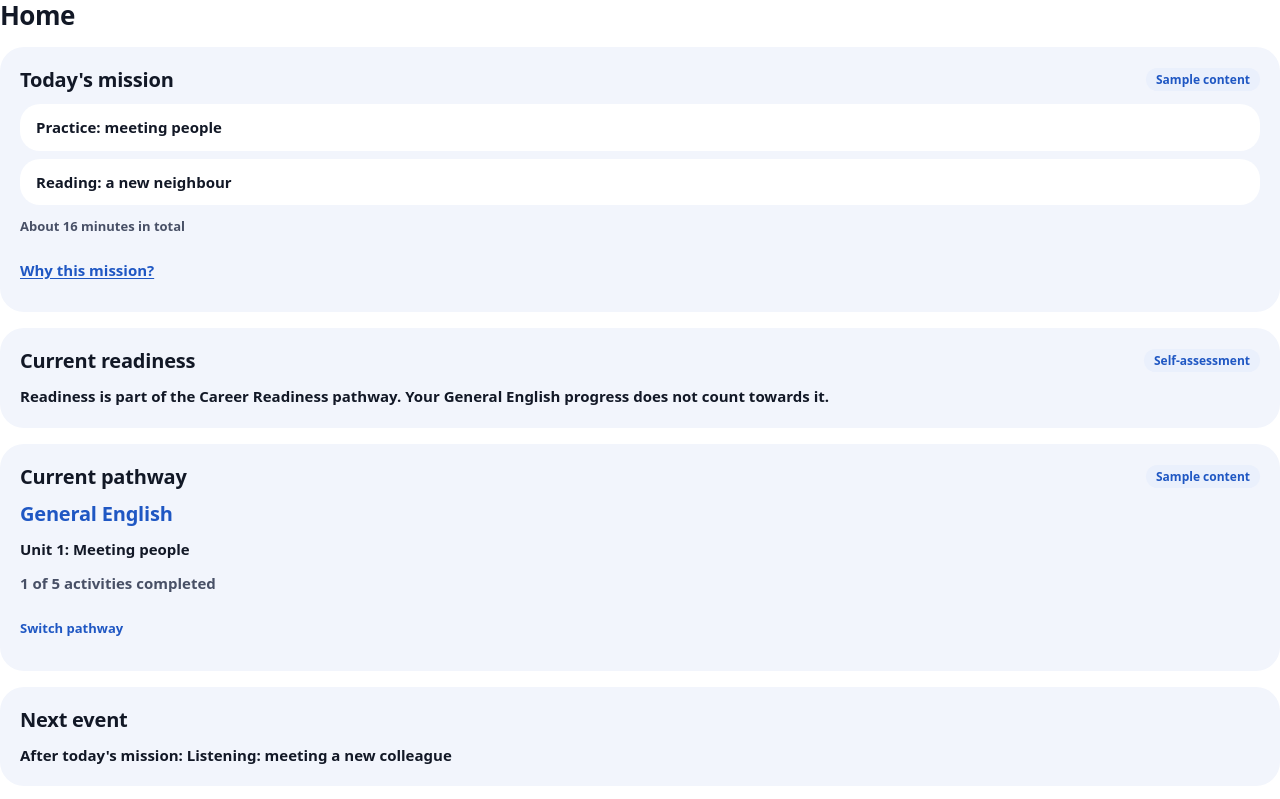
Test: HomePage › switches the pathway only after confirmation and keeps all progress
Expected: the heading "Why this mission?" is shown, x1=20 y1=260 x2=154 y2=280
What coordinates should you click on to do the following:
click the button "Switch pathway"
I would click on:
 (72, 628)
Its box is x1=4 y1=606 x2=139 y2=650.
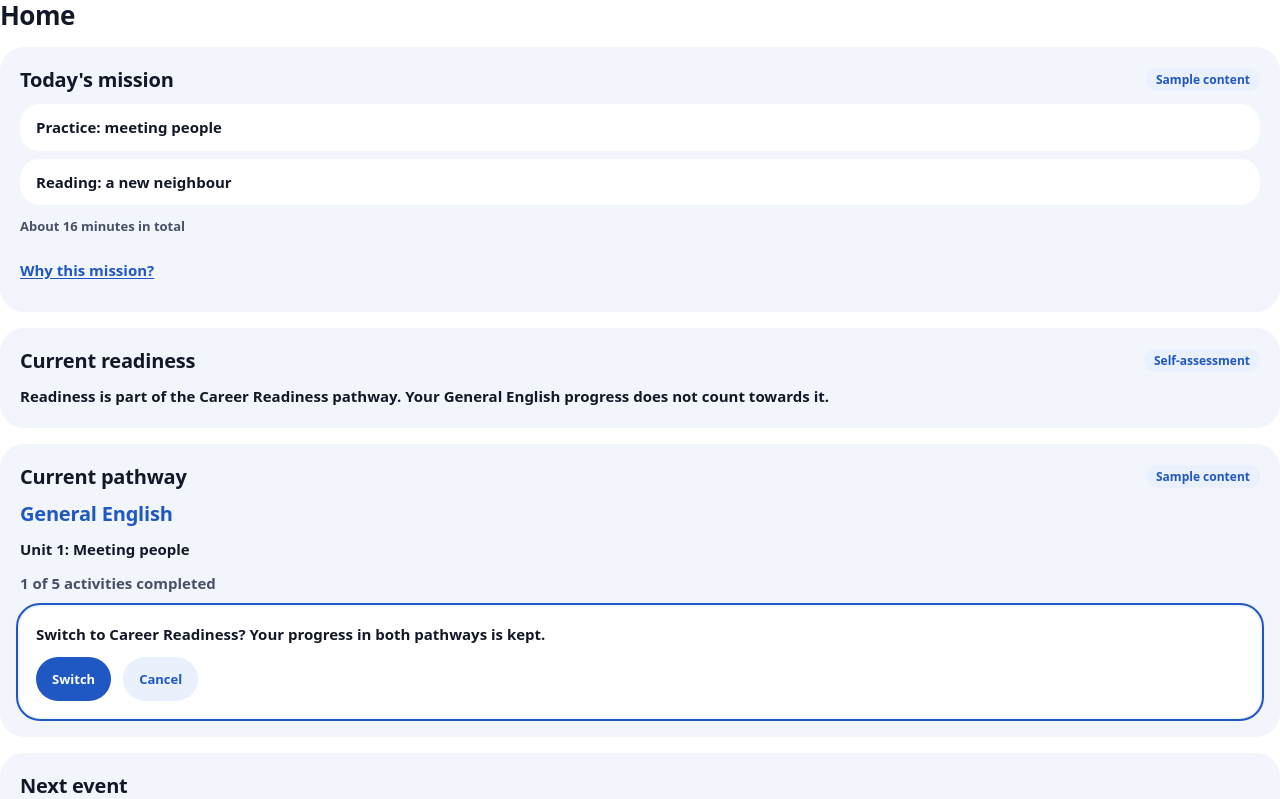
Now the text "Switch to Career Readiness? Your progress in both pathways is kept." is shown, box x1=36 y1=624 x2=545 y2=644
What coordinates should you click on to do the following:
click the button "Cancel"
I would click on:
 (161, 679)
Its box is x1=123 y1=657 x2=198 y2=701.
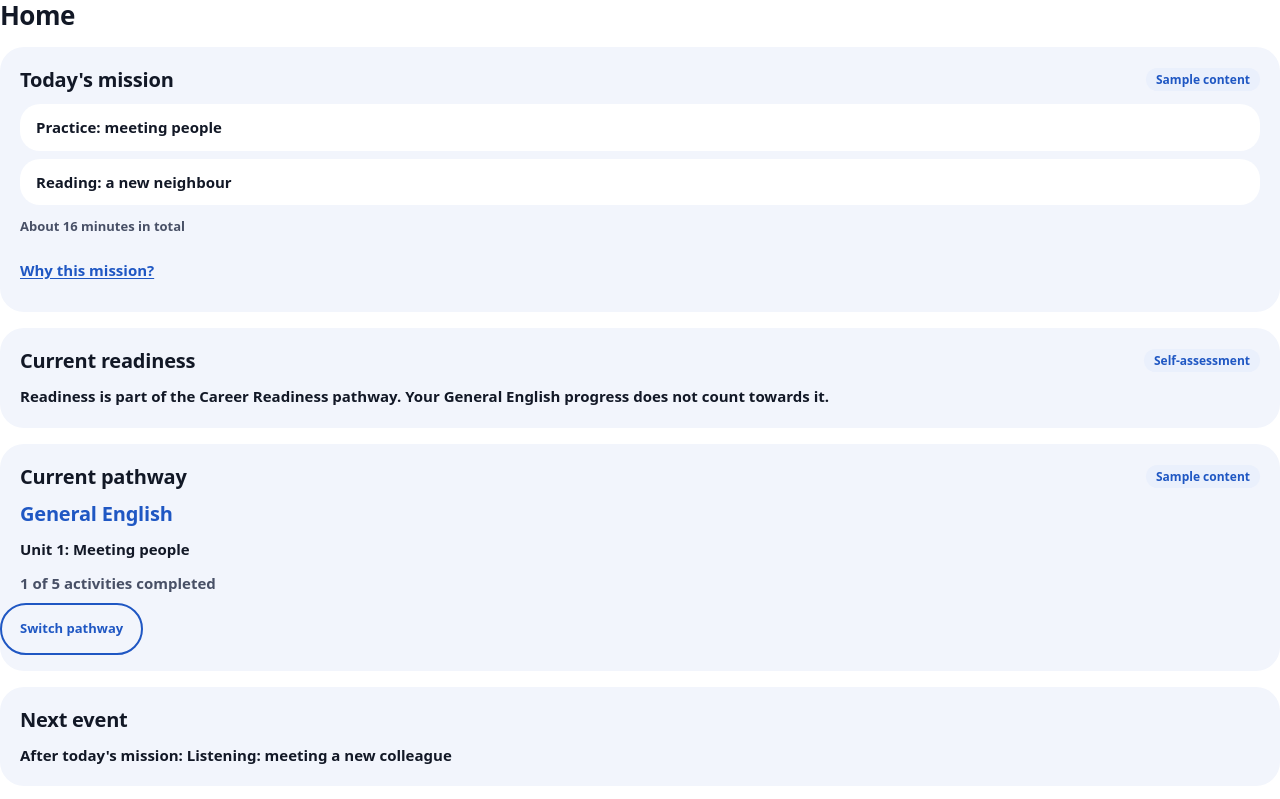
Now the button "Switch pathway" is shown
What coordinates should you click on to do the following:
click the button "Switch pathway"
I would click on:
 (72, 628)
Its box is x1=4 y1=606 x2=139 y2=650.
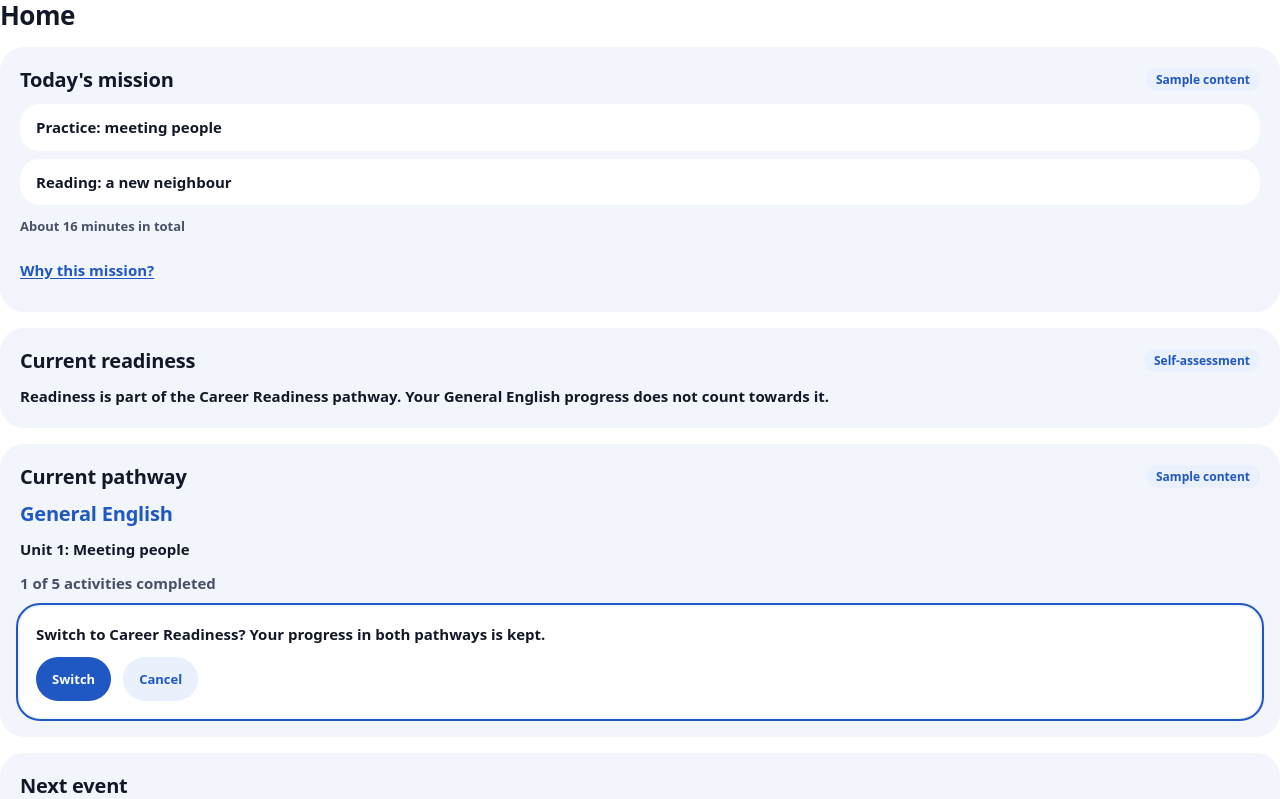
What coordinates should you click on to do the following:
click the button "Switch"
I would click on:
 (74, 679)
Its box is x1=36 y1=657 x2=111 y2=701.
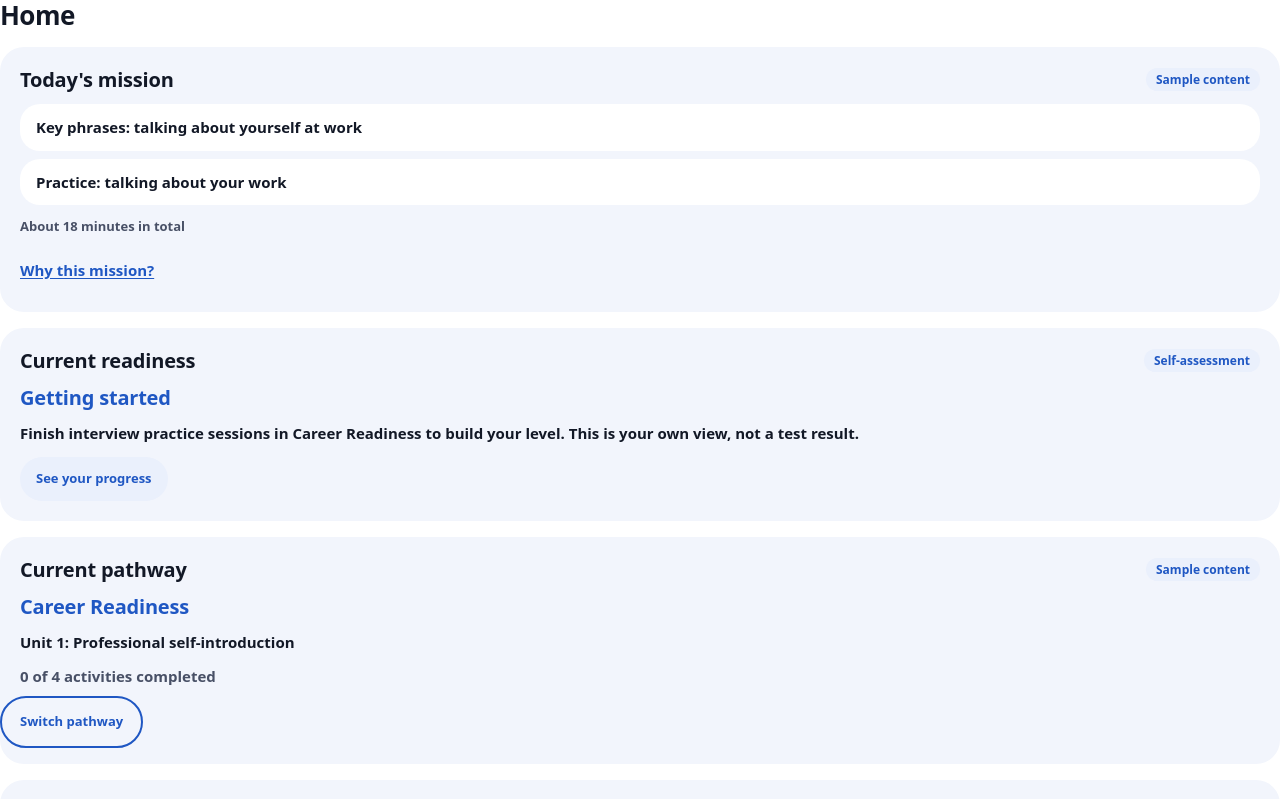
Now the button "Switch pathway" is shown, box x1=4 y1=700 x2=139 y2=744
Now the link "Key phrases: talking about yourself at work" is shown, box x1=20 y1=104 x2=1260 y2=151
Now the text "Career Readiness" is shown, box x1=20 y1=592 x2=189 y2=620
